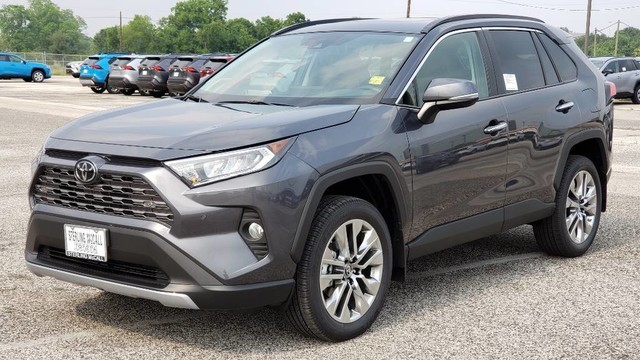Toyota RAV-4: (22, 14, 617, 341)
